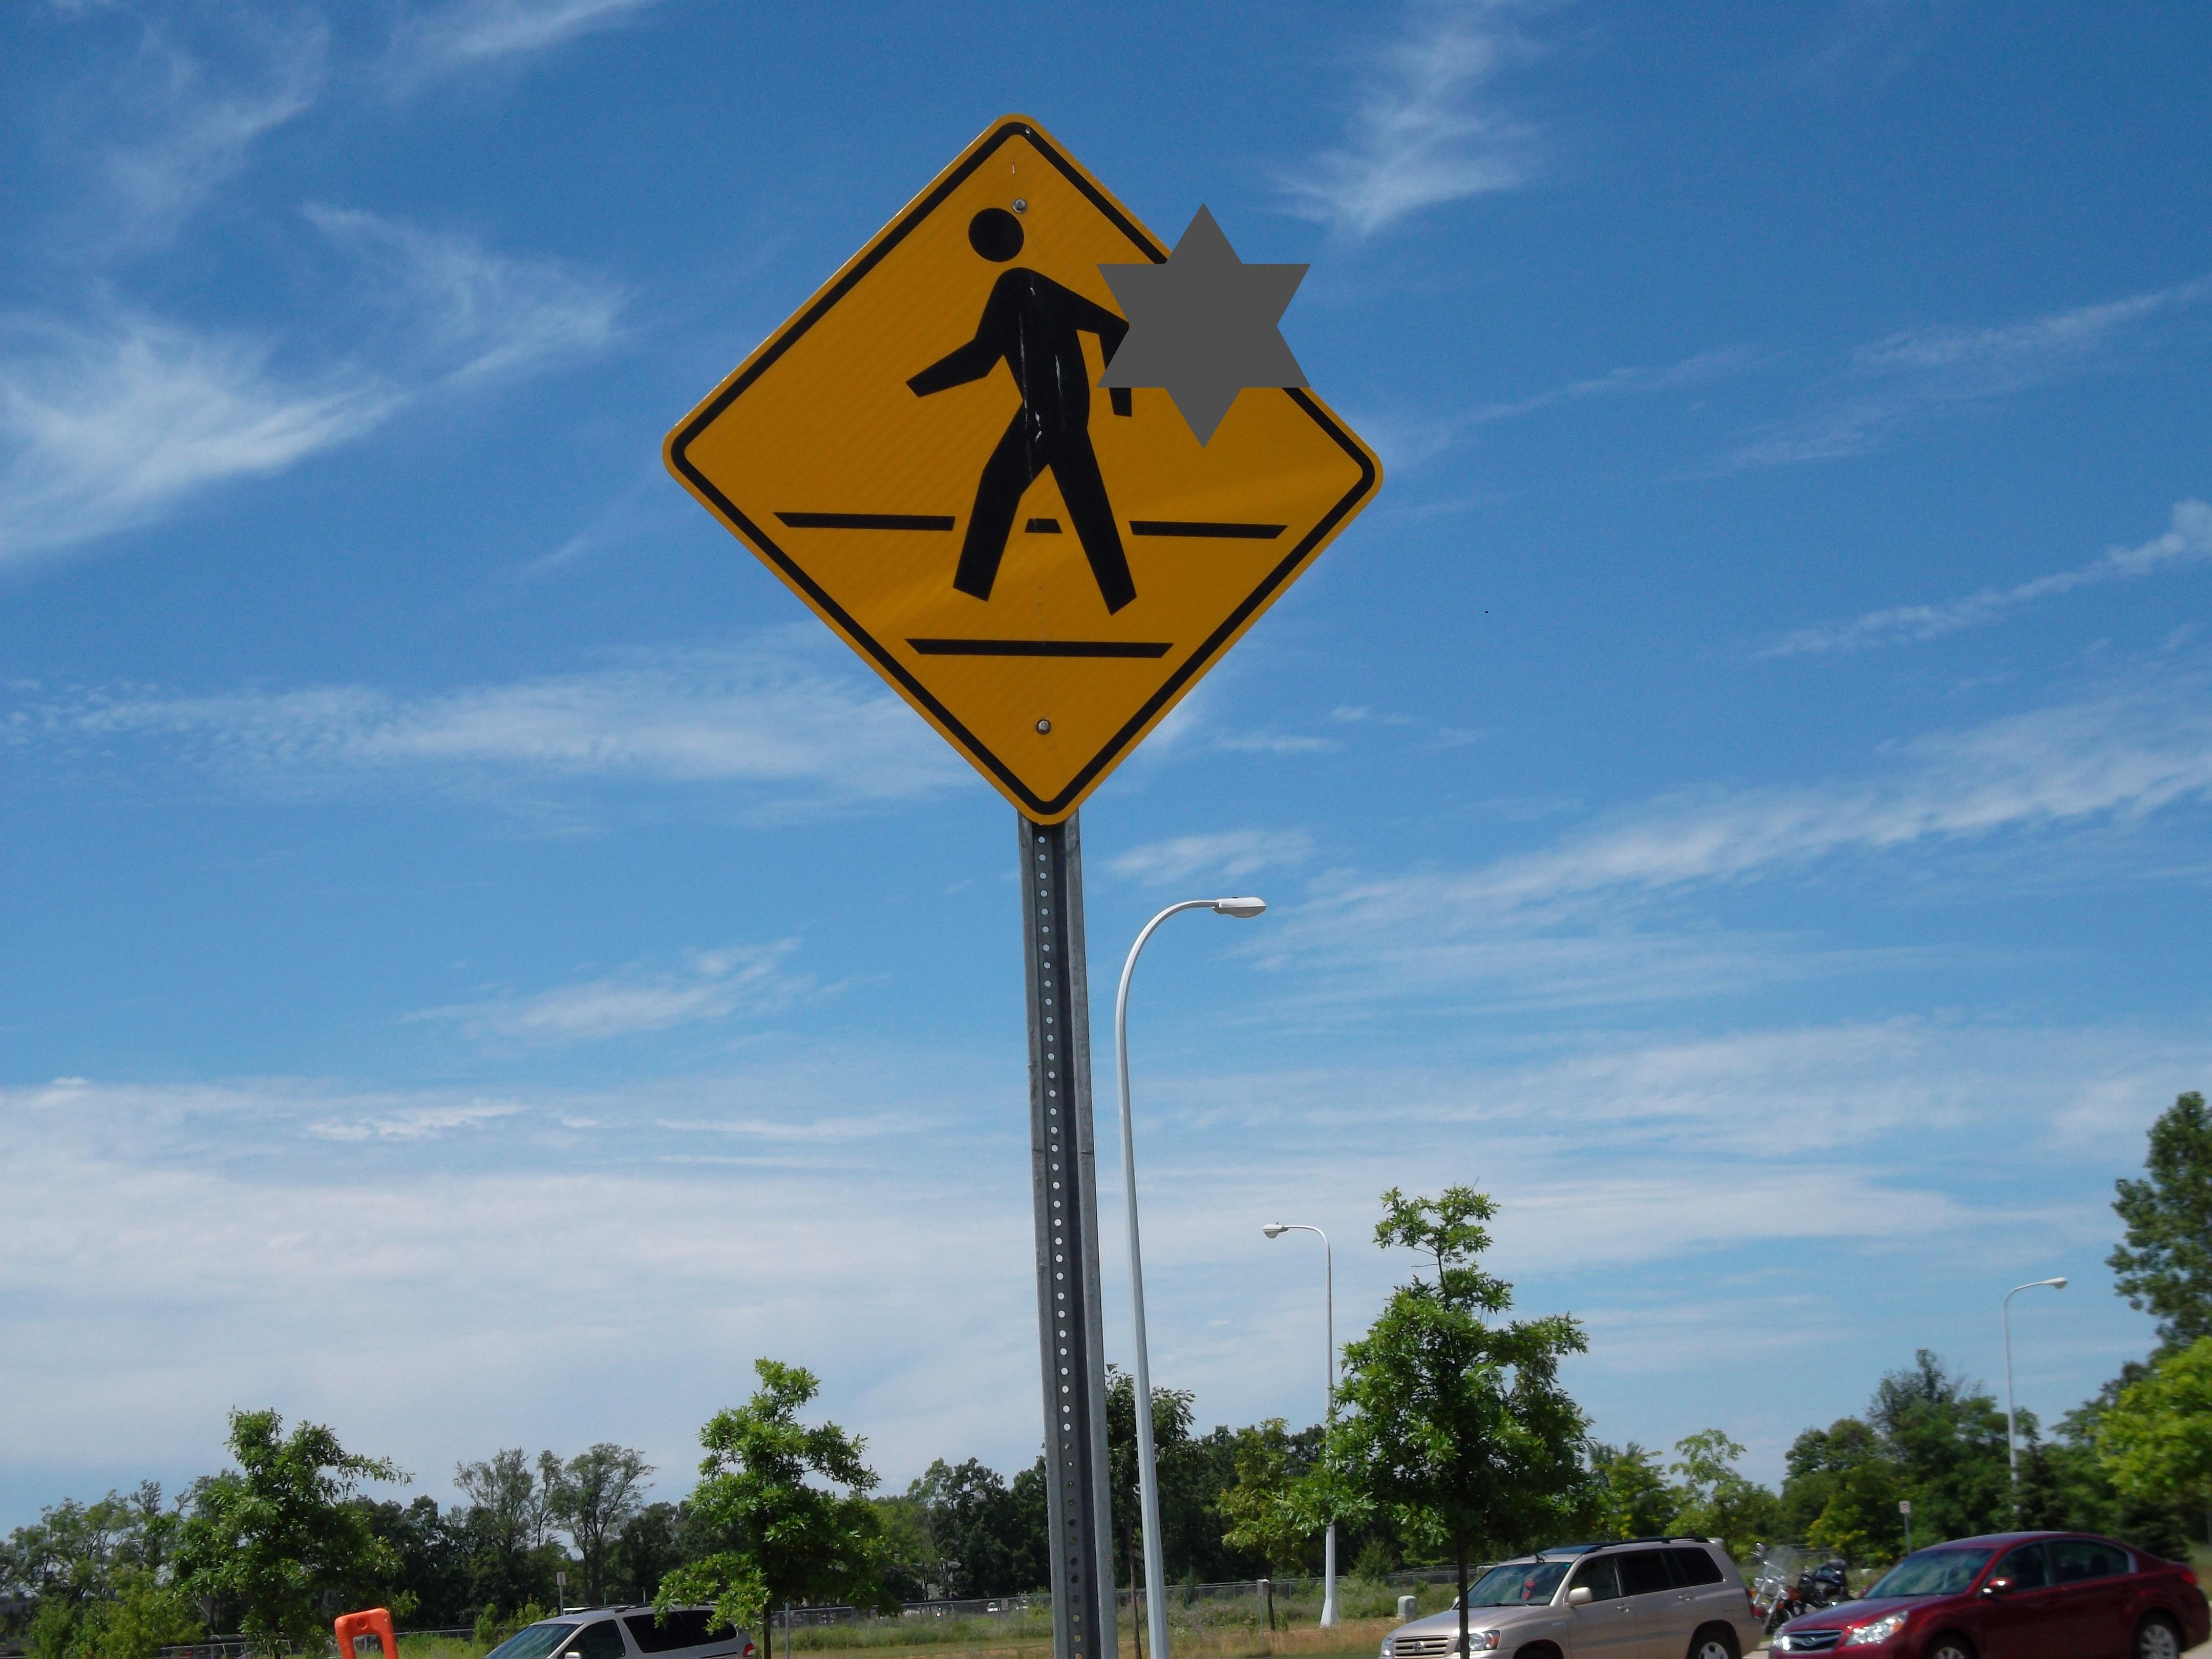warning: (641, 70, 1409, 836)
